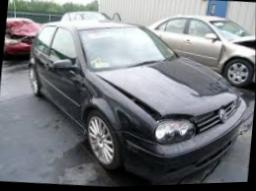Bonnet: (93, 57, 240, 134)
